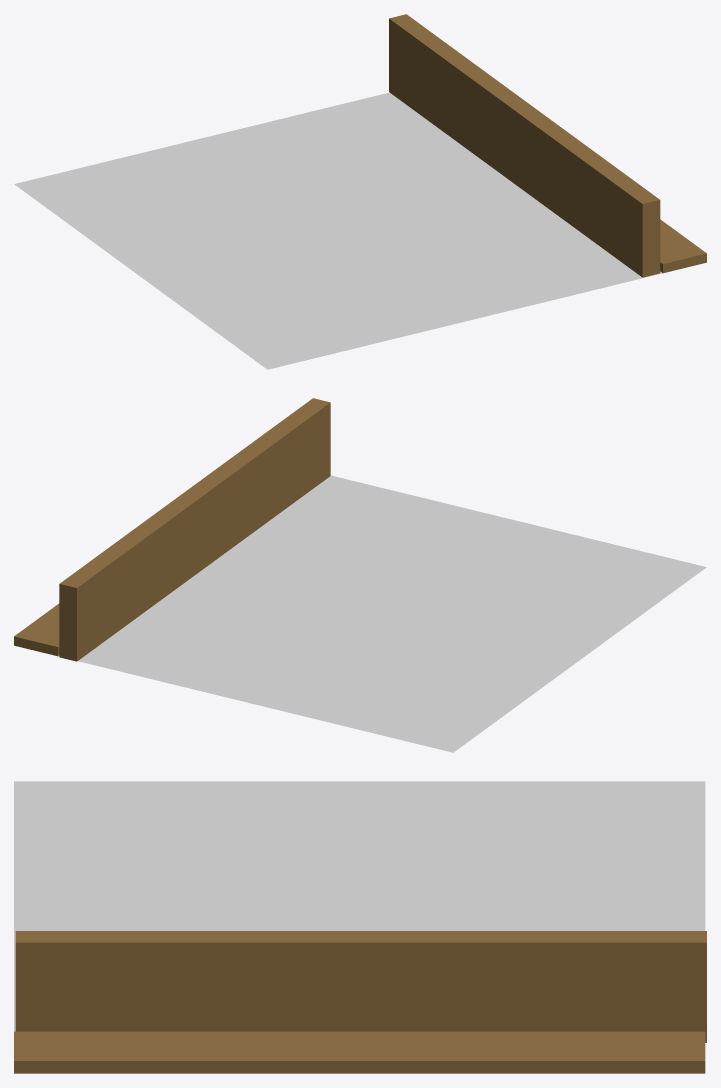
The model's file is rakel.fbx.
3 views of the same model, one above another, from view 1: azimuth 30°, elevation 25°; view 2: azimuth 150°, elevation 25°; view 3: azimuth 270°, elevation 25° (orthographic). The views are drawn at different scales.
Parts seen in each view (by area): view 1: Plane, Handle, HandlePlane; view 2: Plane, Handle, HandlePlane; view 3: Plane, Handle, HandlePlane.
Part boxes in pixels (box(x1,y1,x2,y2)): Plane: box(14, 92, 662, 369); Handle: box(389, 14, 660, 277); HandlePlane: box(660, 219, 706, 273); Plane: box(58, 475, 706, 752); Handle: box(59, 398, 330, 661); HandlePlane: box(14, 603, 59, 656); Plane: box(14, 781, 705, 1031); Handle: box(15, 931, 706, 1042); HandlePlane: box(14, 1031, 705, 1073).
Size of the model in its own units: 100 by 16 by 100.
